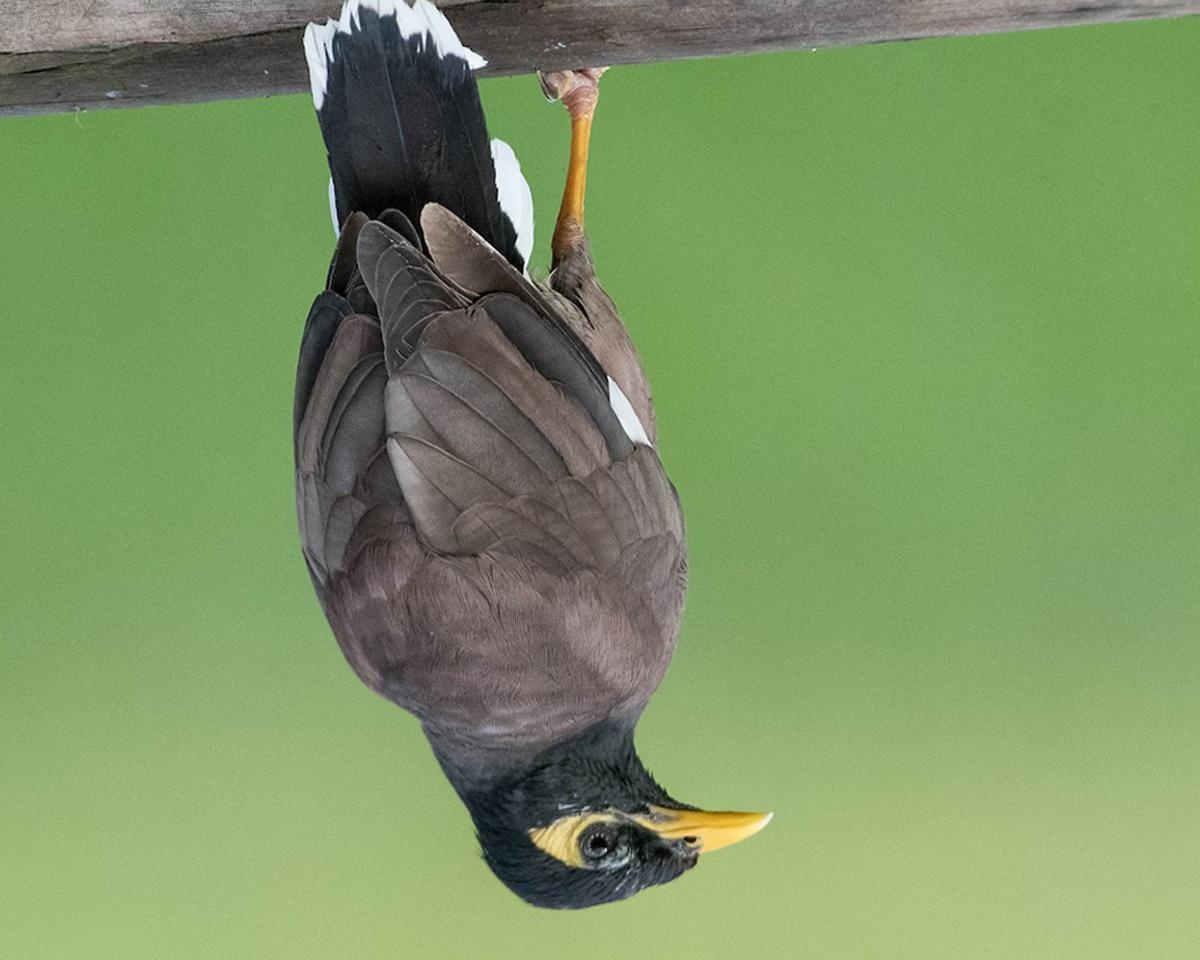myna: (251, 52, 775, 901)
